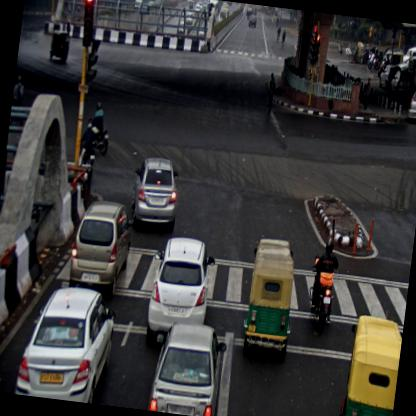car: (11, 279, 119, 404), (145, 234, 217, 348), (145, 319, 229, 415), (68, 196, 136, 300), (130, 152, 182, 229), (406, 87, 415, 127), (248, 14, 257, 27)
motorcycle: (304, 237, 341, 334), (84, 100, 112, 157)
